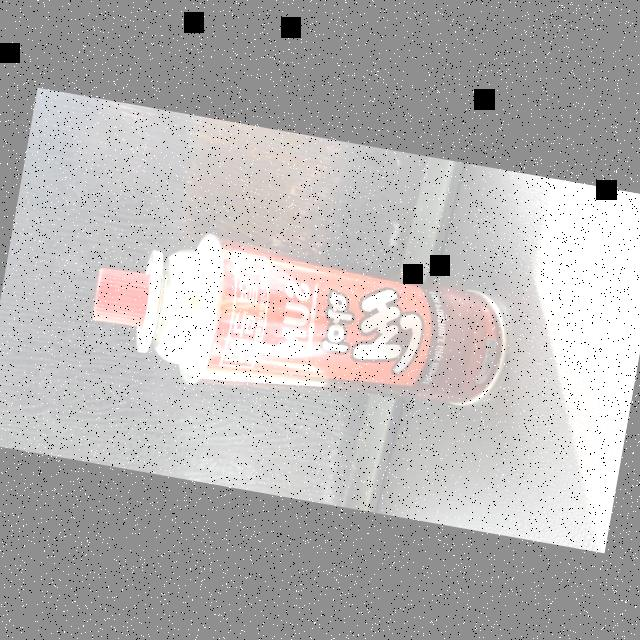chemical_spray_can: (76, 201, 524, 444)
